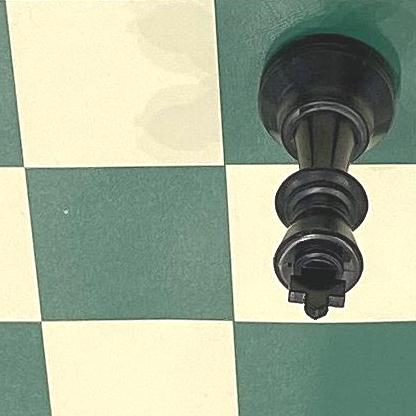black-king: (255, 31, 400, 322)
